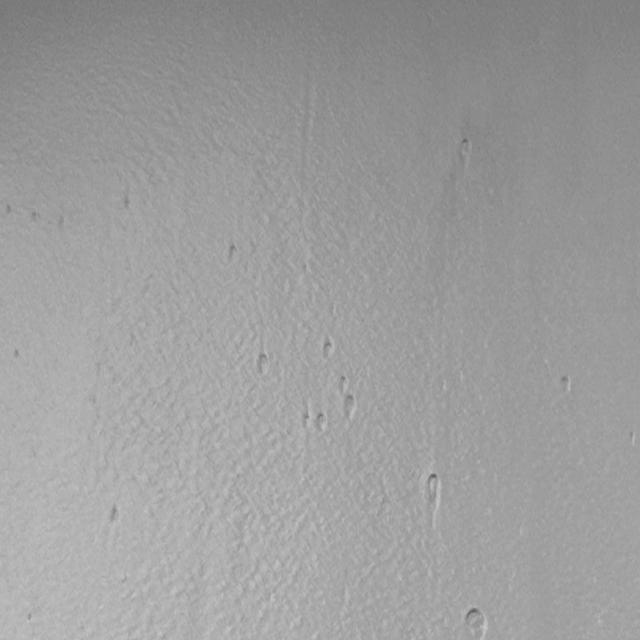pin holes: (462, 604, 489, 639), (420, 472, 443, 510), (341, 392, 360, 420), (557, 373, 577, 398), (458, 138, 476, 165), (254, 352, 272, 377), (107, 503, 126, 526), (224, 242, 242, 266), (312, 410, 328, 435), (322, 339, 338, 360), (301, 409, 315, 432), (337, 374, 352, 394), (29, 210, 42, 227), (122, 195, 135, 212), (626, 432, 638, 449), (12, 347, 25, 362), (4, 202, 16, 217)
